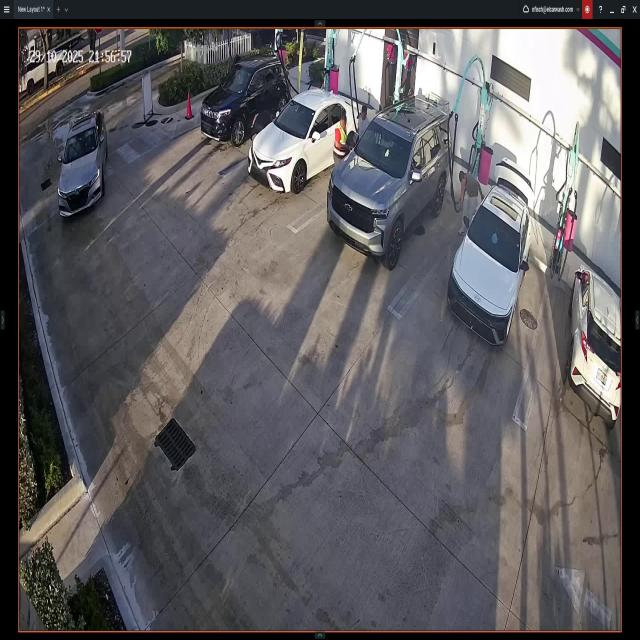Car: (329, 98, 449, 270), (447, 159, 531, 347), (249, 90, 357, 191), (564, 264, 620, 428), (202, 56, 288, 144), (58, 103, 104, 217), (251, 28, 308, 53)
